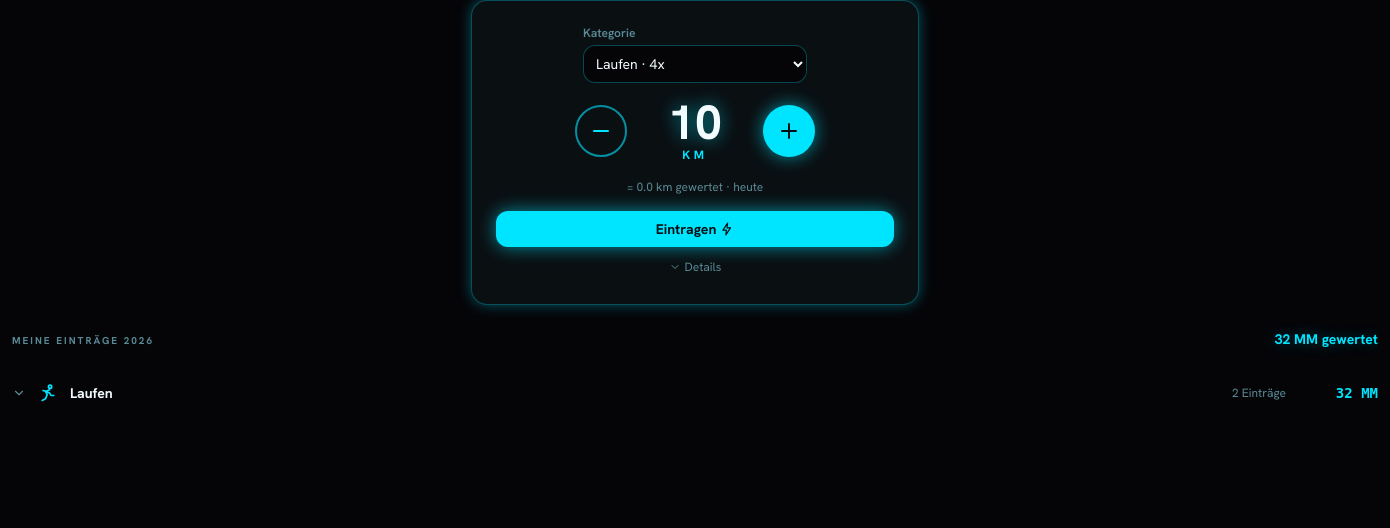
Test: MyMeters › groups by category, collapsed by default, expands on click
Expected: the text "2 Einträge" is shown, [1232,385,1286,401]
Expected: the text "32 MM" is shown, [1336,385,1378,401]
Step 1. Click the text "Laufen" → {"x": 91, "y": 393}, box [70,384,113,402]
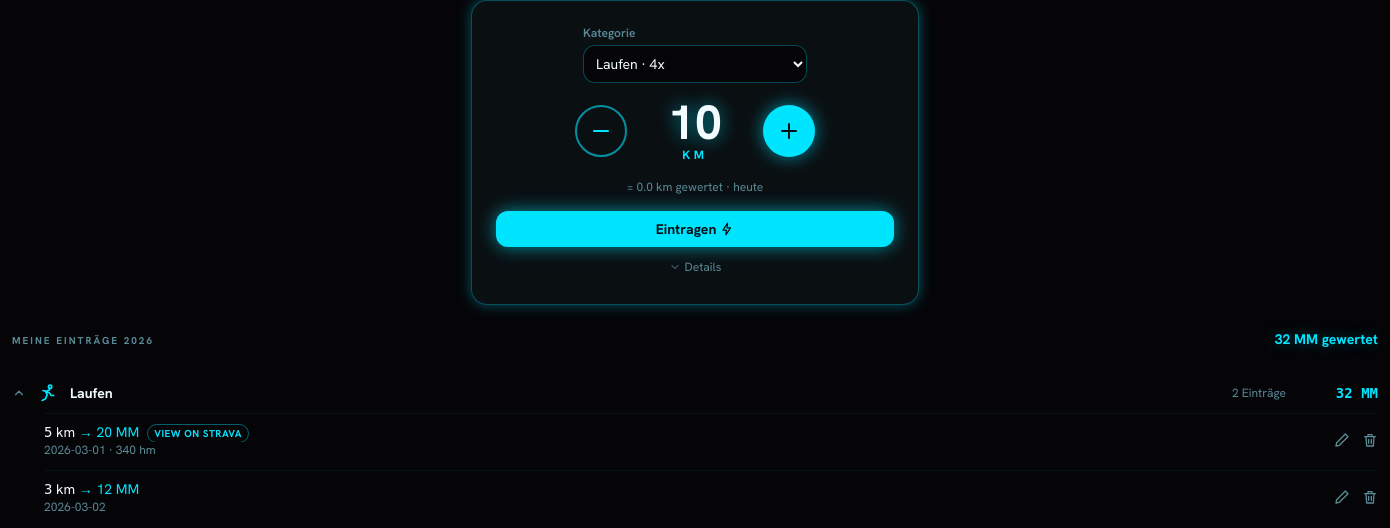
Result: the link "View on Strava" is shown at [147,424,249,442]
